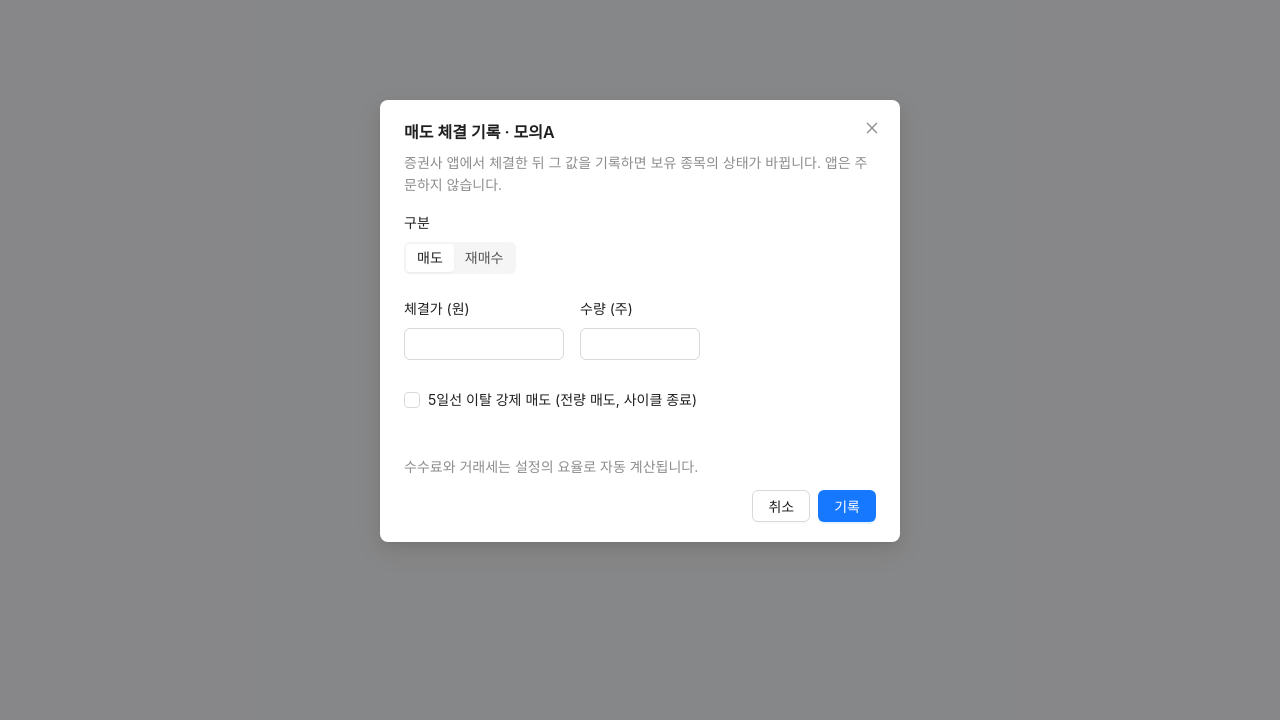
FillModal › refuses to record without a price or a quantity
Click the button "기록" at [847, 506], box [818,490,876,522]
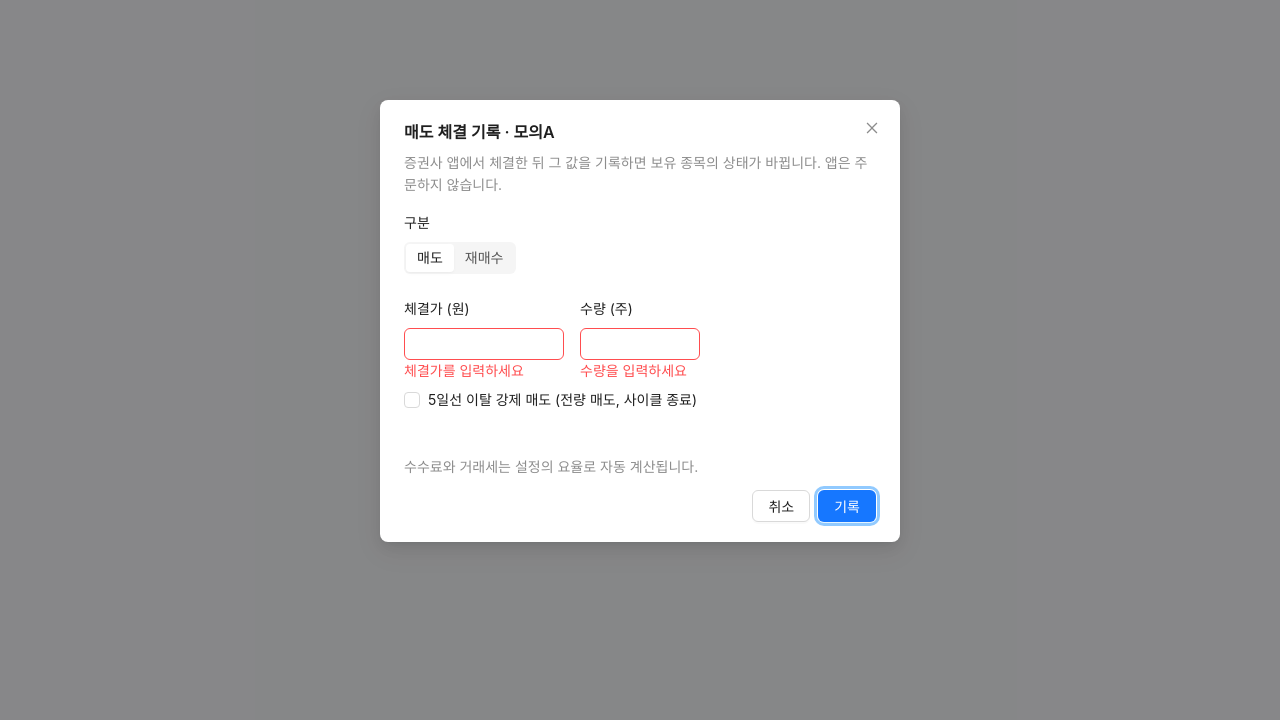
Check: the text "체결가를 입력하세요" is shown, box [404,362,524,379]
Check: the text "수량을 입력하세요" is shown, box [580,360,700,382]
